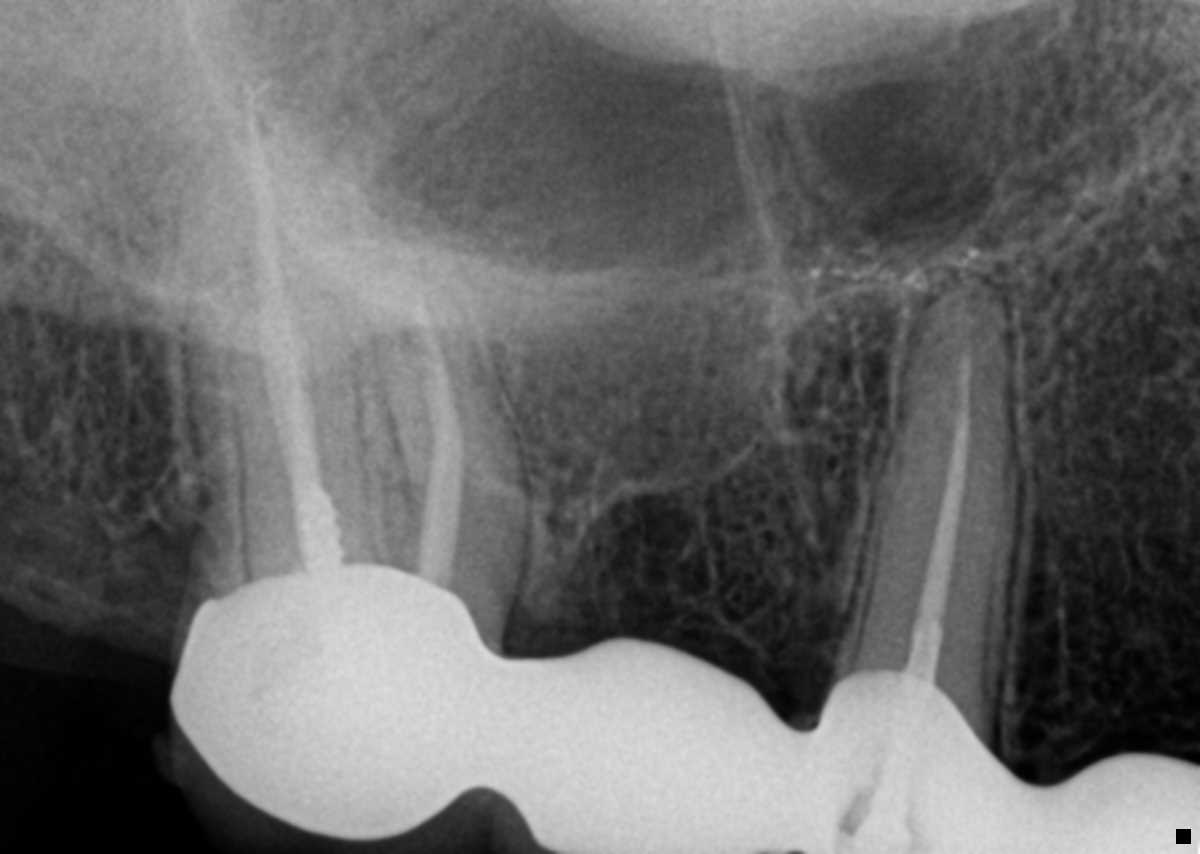Apical Lesion: (894, 259, 1020, 393)
Distal Root: (230, 289, 375, 584)
Main Root: (836, 277, 1018, 715)
Mesial Root: (370, 268, 530, 605)
Palatal Root: (187, 117, 428, 559)
Root Canal Filling: (898, 344, 970, 704), (410, 295, 465, 569)
